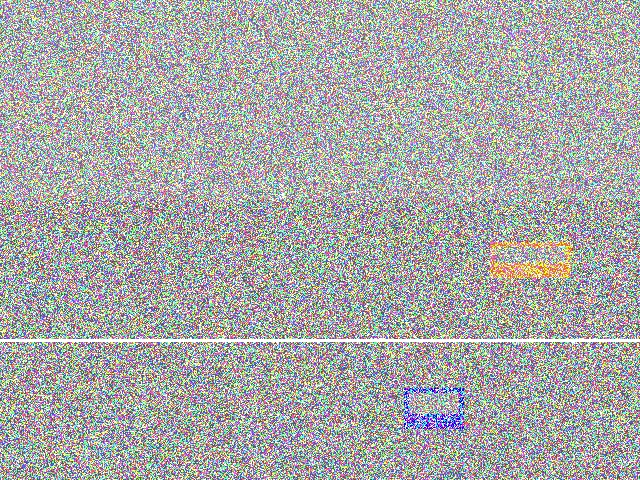truck: (202, 226, 381, 324), (59, 240, 134, 319)
